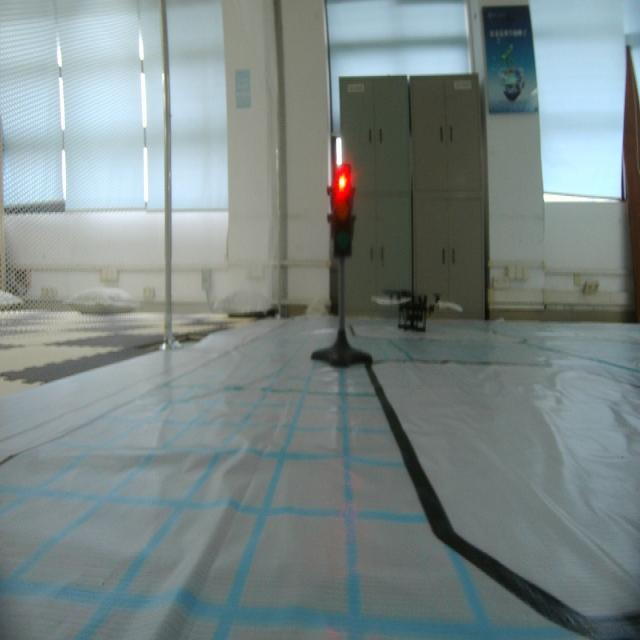red: (330, 171, 354, 252)
